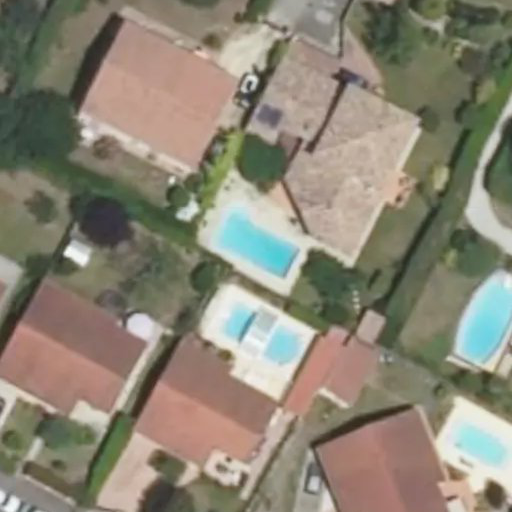pool: (217, 212, 300, 279), (224, 305, 300, 366), (457, 282, 512, 365), (455, 420, 507, 468)
